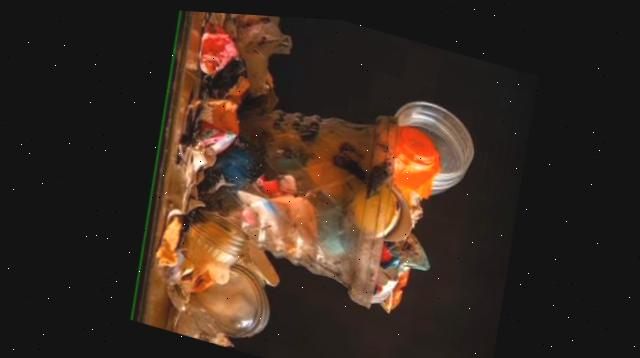Disposable: (394, 96, 471, 189), (184, 262, 263, 335), (184, 206, 245, 263)
Garbage: (153, 10, 470, 345)
Plastic_Container: (200, 106, 395, 303)
Plastic_wraper: (188, 95, 236, 151), (385, 228, 425, 266)
